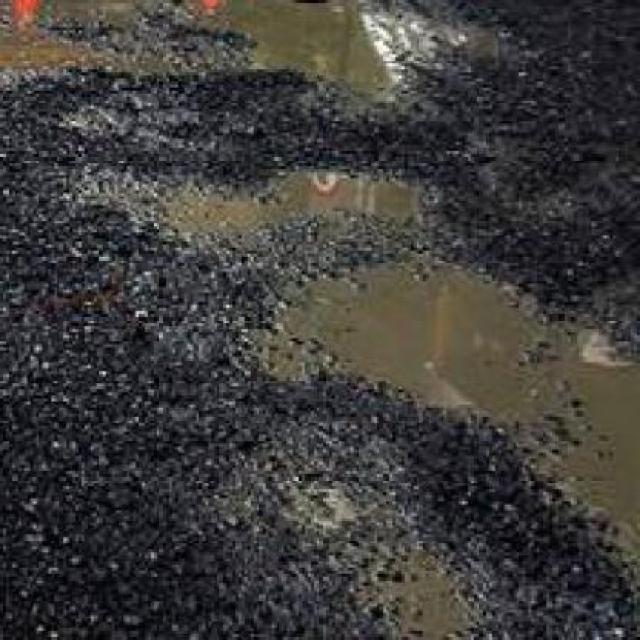pothole: (260, 254, 640, 586), (208, 392, 502, 637), (2, 0, 528, 106), (100, 120, 455, 245)
